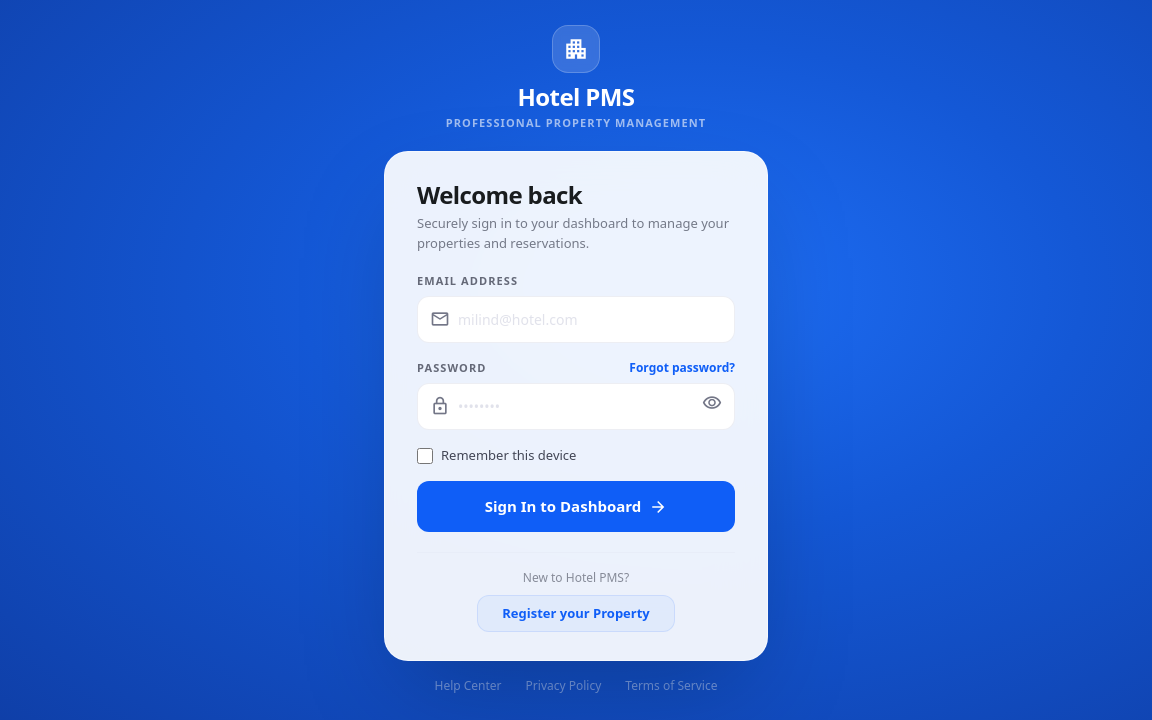
Scenario: Login Component - Password Toggle Functionality › allows typing in password input regardless of visibility state
# Type password when hidden
Type "secretPassword123" into the password field with placeholder "••••••••" at point(576, 406), box left=418, top=384, right=734, bottom=429
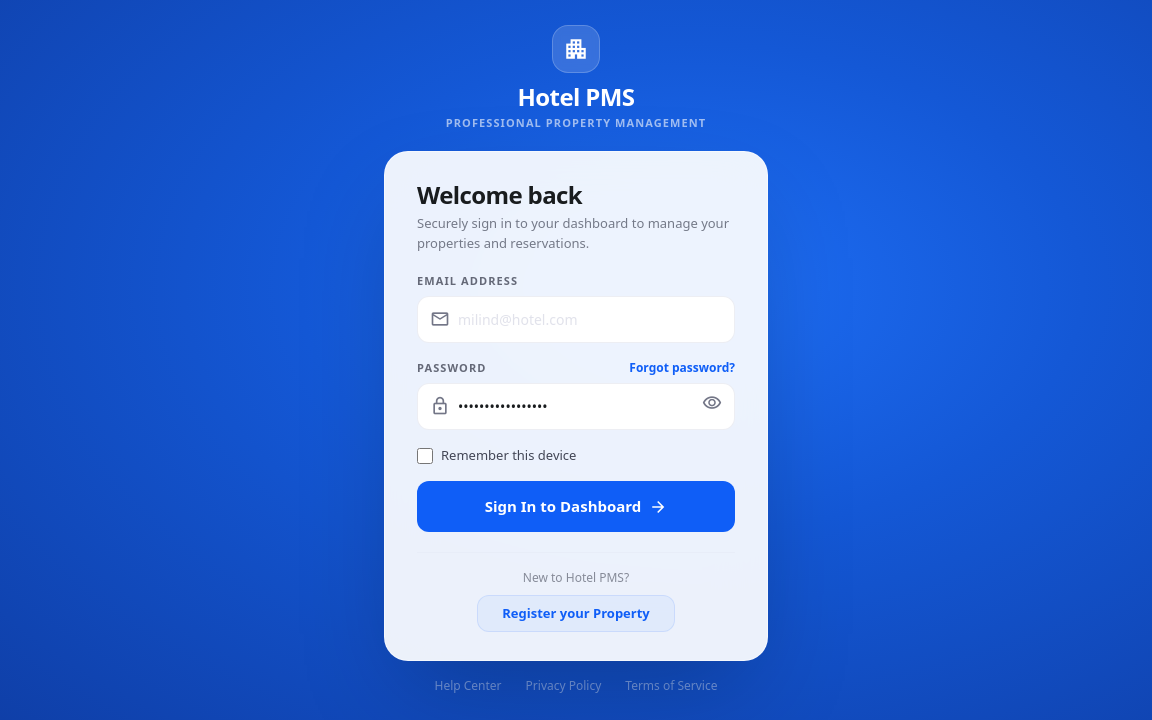
# Show password
Click the button named "visibility" at point(712, 406), box left=702, top=393, right=722, bottom=419
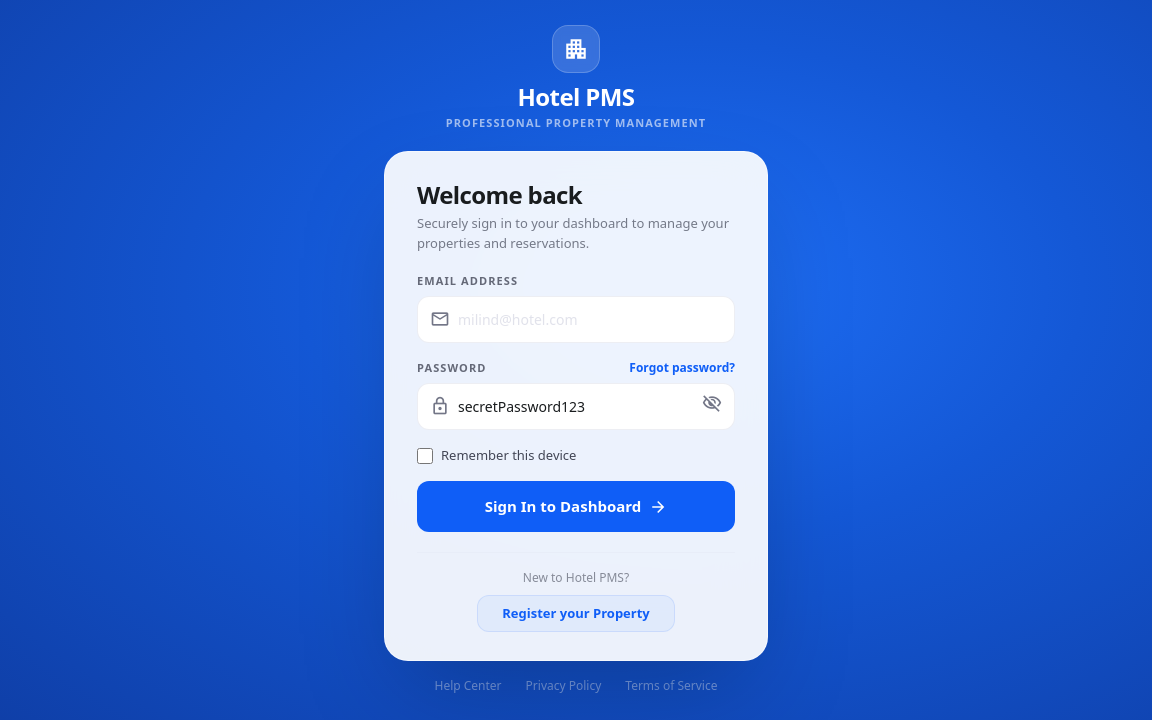
Result: the field with placeholder "••••••••" shows its text
# Update password when visible
Replace the text in the field with placeholder "••••••••" with "newPassword456" at point(576, 406), box left=418, top=384, right=734, bottom=429
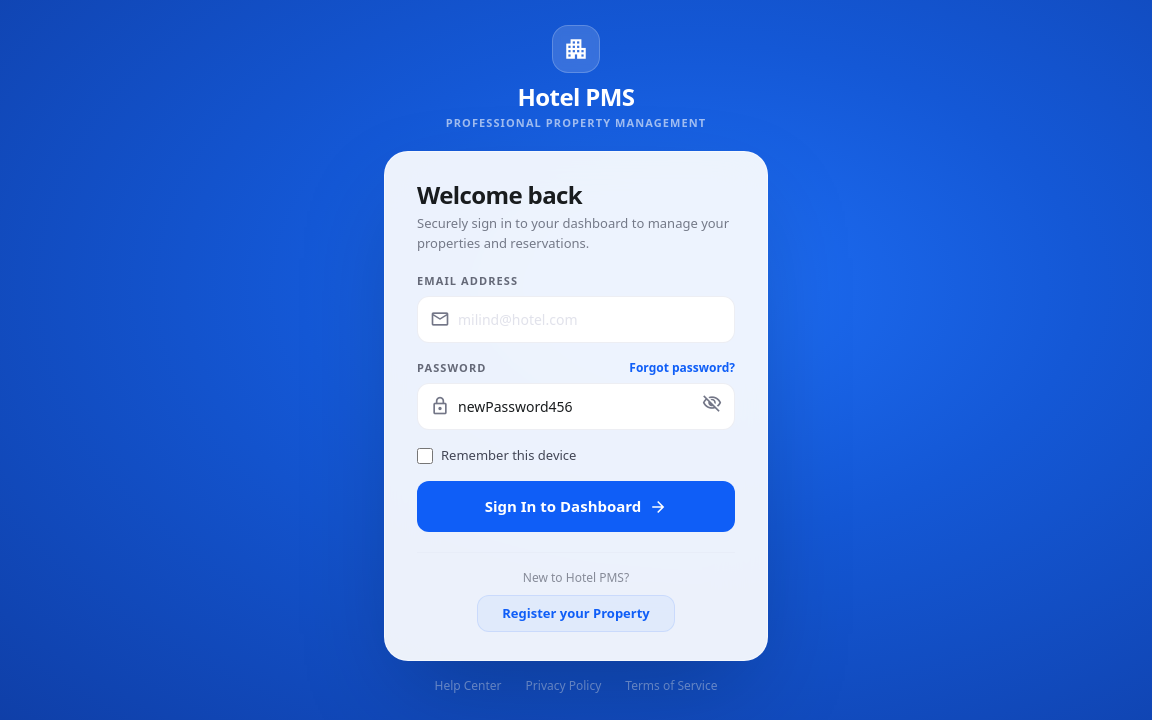
# Hide password again
Click the button named "visibility" at point(712, 406), box left=702, top=393, right=722, bottom=419
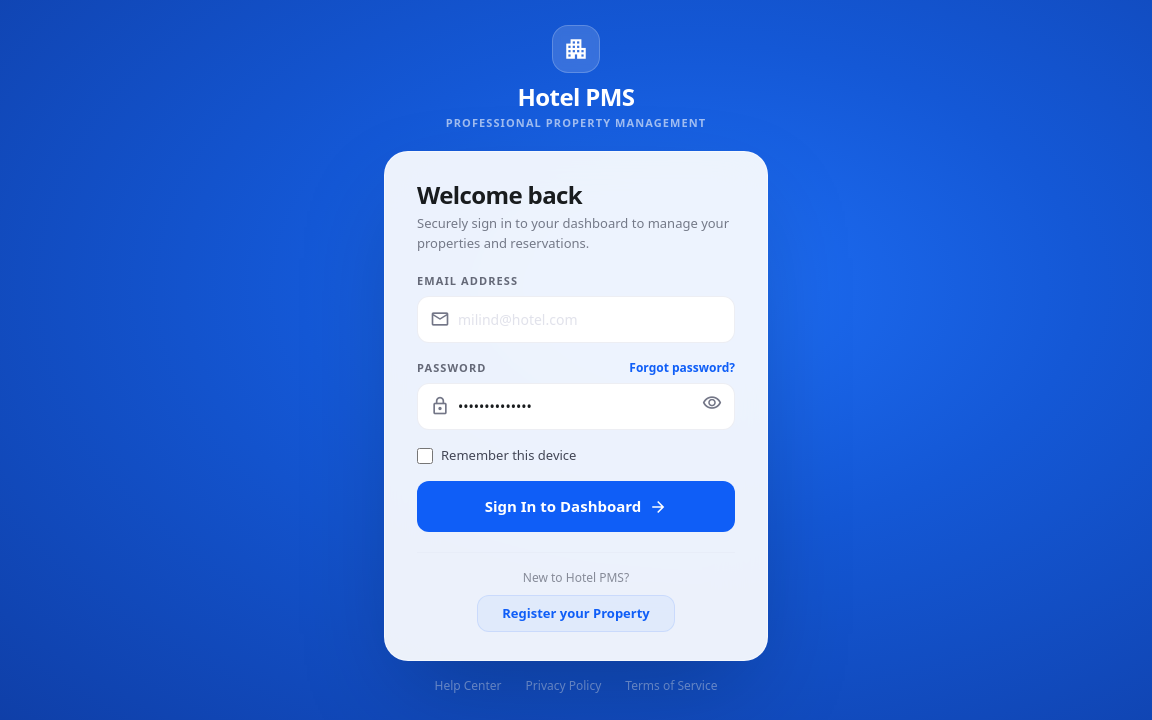
Result: the password field with placeholder "••••••••" hides its text at left=418, top=384, right=734, bottom=429
